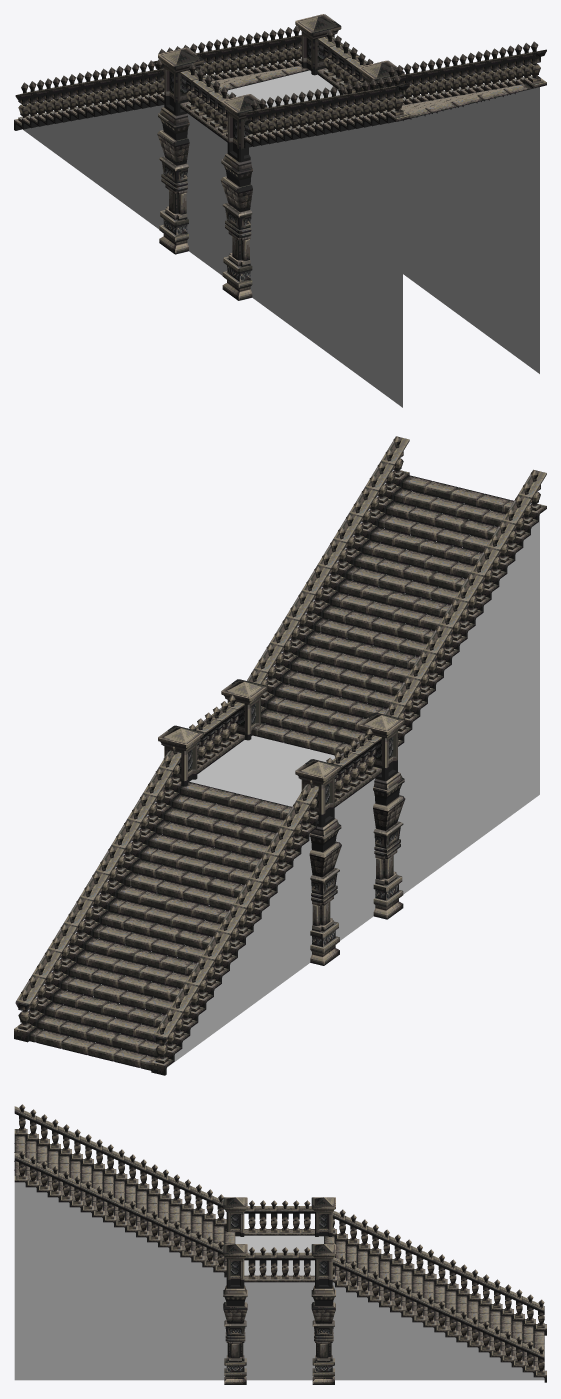
Rendered from EnvMdrMD_Castle_A_Stairs_A.FBX.
The picture shows the model from 3 angles, top to bottom: view 1: azimuth 30°, elevation 25°; view 2: azimuth 150°, elevation 25°; view 3: azimuth 270°, elevation 25°; orthographic projection. The views are drawn at different scales.
Visible parts, largest first — view 1: EnvMdrMD_Castle_A_Stairs_A; view 2: EnvMdrMD_Castle_A_Stairs_A; view 3: EnvMdrMD_Castle_A_Stairs_A.
Boxes of the visible parts, x1=… form: EnvMdrMD_Castle_A_Stairs_A: x1=14, y1=14, x2=546, y2=407; EnvMdrMD_Castle_A_Stairs_A: x1=14, y1=436, x2=546, y2=1075; EnvMdrMD_Castle_A_Stairs_A: x1=14, y1=1104, x2=546, y2=1384.
Bounding box in the file's own units: 610 × 1145 × 2413.
